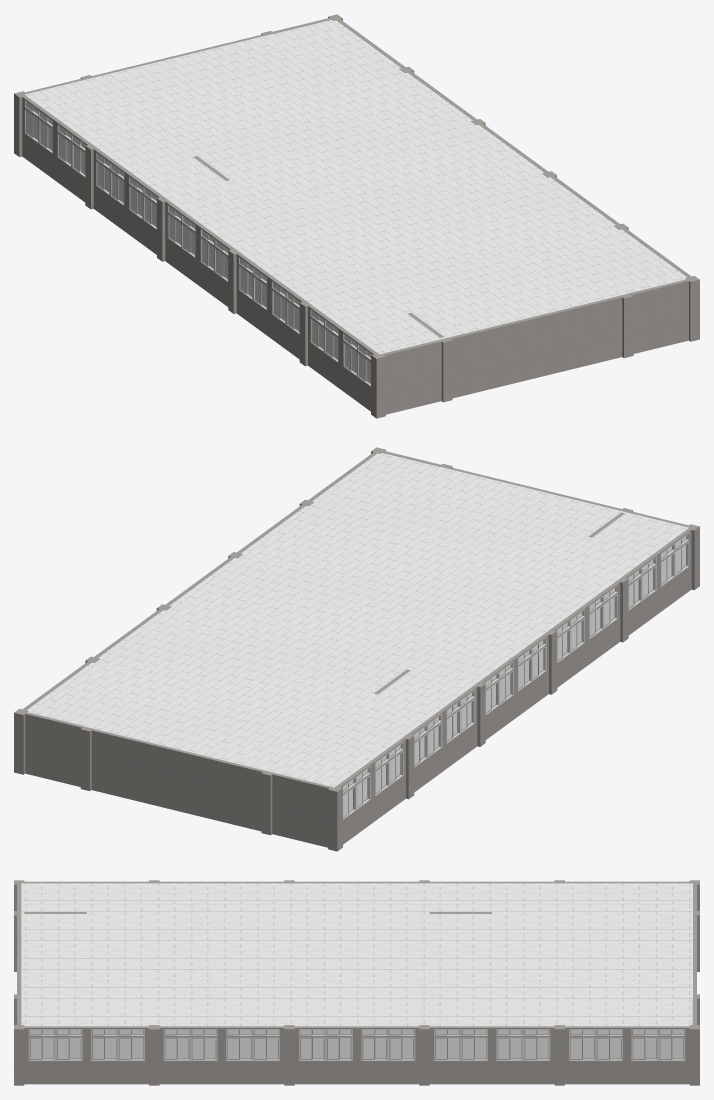
File: school.glb
The picture shows the model from 3 angles, top to bottom: view 1: azimuth 30°, elevation 25°; view 2: azimuth 150°, elevation 25°; view 3: azimuth 270°, elevation 25°; orthographic projection. The views are drawn at different scales.
Visible parts, largest first — view 1: corridor_roof.001, normal_wall.036, normal_wall.034, normal_wall.032, normal_wall.024, normal_wall.037, corridor_plastic_window_wall.027, corridor_plastic_window_wall.021, corridor_plastic_window_wall.023, corridor_plastic_window_wall.029, corridor_plastic_window_wall.025, corridor_plastic_window_wall.024 (+8 smaller); view 2: corridor_roof.001, normal_wall.017, normal_wall.015, normal_wall.013, normal_wall.038, normal_wall.011, corridor_plastic_window_wall.024, corridor_plastic_window_wall.028, corridor_plastic_window_wall.030, corridor_plastic_window_wall.022, corridor_plastic_window_wall.026, corridor_plastic_window_wall.027 (+8 smaller); view 3: corridor_roof.001, corridor_plastic_window_wall.031, corridor_plastic_window_wall.038, corridor_plastic_window_wall.040, corridor_plastic_window_wall.033, corridor_plastic_window_wall.036, corridor_plastic_window_wall.032, corridor_plastic_window_wall.034, corridor_plastic_window_wall.035, corridor_plastic_window_wall.037, corridor_plastic_window_wall.039, pillar.073 (+15 smaller).
Boxes of the visible parts, x1=… form: corridor_roof.001: x1=24, y1=19, x2=687, y2=354; normal_wall.036: x1=563, y1=296, x2=622, y2=370; normal_wall.034: x1=506, y1=309, x2=565, y2=384; normal_wall.032: x1=449, y1=323, x2=508, y2=398; normal_wall.024: x1=382, y1=340, x2=441, y2=414; normal_wall.037: x1=629, y1=279, x2=688, y2=353; corridor_plastic_window_wall.027: x1=236, y1=252, x2=272, y2=337; corridor_plastic_window_wall.021: x1=22, y1=96, x2=58, y2=180; corridor_plastic_window_wall.023: x1=93, y1=148, x2=129, y2=232; corridor_plastic_window_wall.029: x1=308, y1=305, x2=344, y2=389; corridor_plastic_window_wall.025: x1=165, y1=200, x2=201, y2=284; corridor_plastic_window_wall.024: x1=126, y1=172, x2=163, y2=254; corridor_roof.001: x1=26, y1=452, x2=688, y2=787; normal_wall.017: x1=91, y1=729, x2=150, y2=803; normal_wall.015: x1=148, y1=743, x2=207, y2=817; normal_wall.013: x1=205, y1=756, x2=264, y2=831; normal_wall.038: x1=25, y1=712, x2=84, y2=786; normal_wall.011: x1=272, y1=773, x2=331, y2=847; corridor_plastic_window_wall.024: x1=441, y1=685, x2=477, y2=770; corridor_plastic_window_wall.028: x1=584, y1=581, x2=620, y2=665; corridor_plastic_window_wall.030: x1=655, y1=529, x2=691, y2=613; corridor_plastic_window_wall.022: x1=369, y1=738, x2=405, y2=822; corridor_plastic_window_wall.026: x1=512, y1=633, x2=548, y2=717; corridor_plastic_window_wall.027: x1=551, y1=605, x2=587, y2=687; corridor_roof.001: x1=21, y1=883, x2=692, y2=1026; corridor_plastic_window_wall.031: x1=24, y1=1026, x2=86, y2=1084; corridor_plastic_window_wall.038: x1=492, y1=1026, x2=554, y2=1084; corridor_plastic_window_wall.040: x1=627, y1=1026, x2=689, y2=1084; corridor_plastic_window_wall.033: x1=159, y1=1026, x2=221, y2=1084; corridor_plastic_window_wall.036: x1=357, y1=1026, x2=419, y2=1084; corridor_plastic_window_wall.032: x1=86, y1=1026, x2=148, y2=1084; corridor_plastic_window_wall.034: x1=222, y1=1026, x2=284, y2=1084; corridor_plastic_window_wall.035: x1=294, y1=1026, x2=356, y2=1084; corridor_plastic_window_wall.037: x1=429, y1=1026, x2=491, y2=1084; corridor_plastic_window_wall.039: x1=565, y1=1026, x2=627, y2=1084; pillar.073: x1=14, y1=1025, x2=24, y2=1085.
Size of what is drawn, in the model's own units: 33.99 by 6.03 by 66.01.
Materials: 10 (9 with a texture image).
